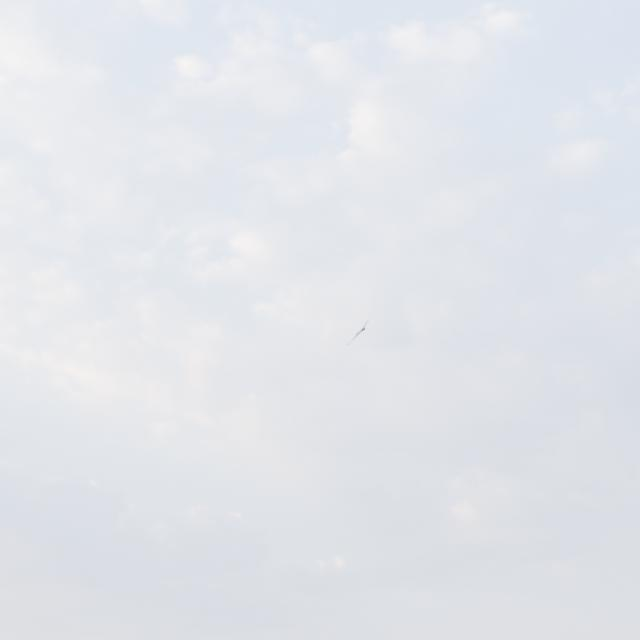Airaplan: (348, 320, 369, 346)
